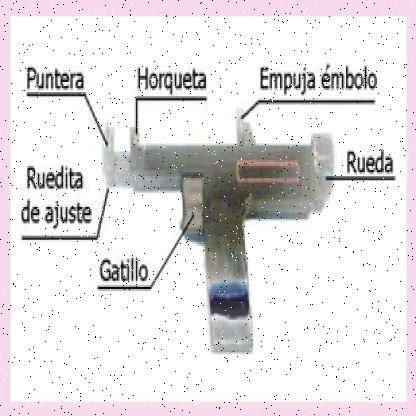pistol: (100, 123, 344, 357)
